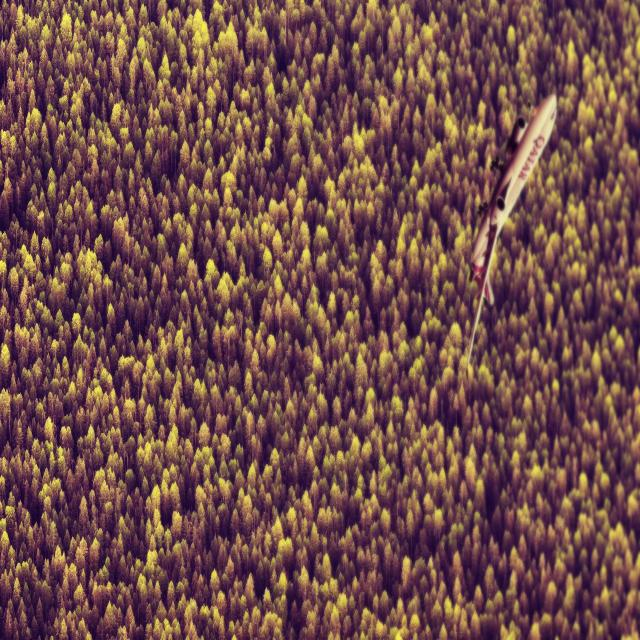airplane: (466, 91, 557, 367)
